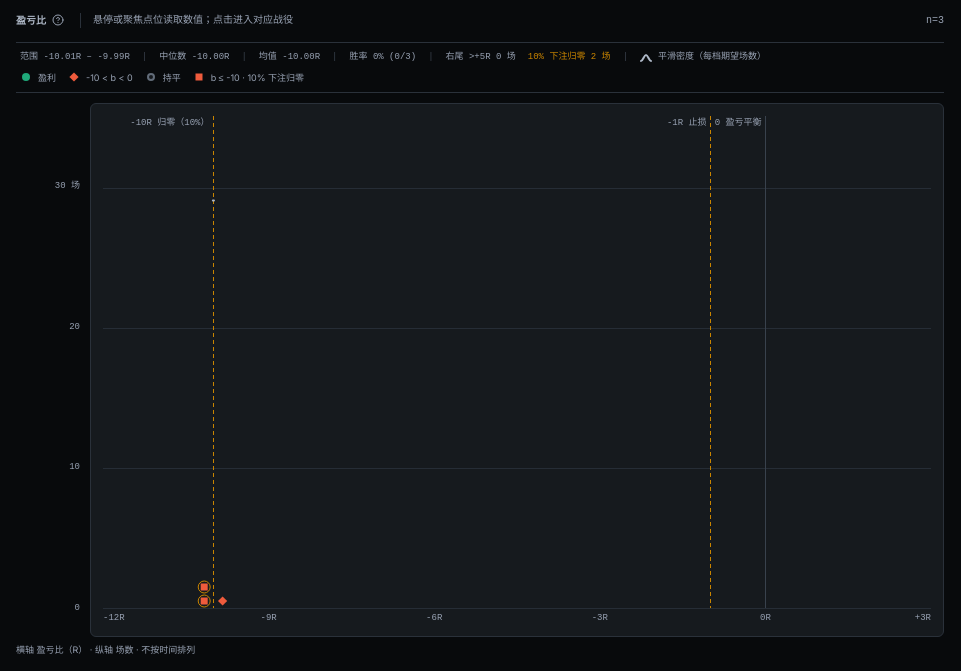
Test: 盈亏比分布的固定 10% 下注归零界限 › 提示和读屏保留真实 b，并明确假设，不把模拟归零误写成实际强平
Later steps or results of the test are not shown.
Focus the button named "第 1 场，战役 0，盈亏比 -10.01R，按 10% 下注，本金归零，操作时间 2023-11-15 06:13:2" at [204, 601], box 195,594 -> 213,608
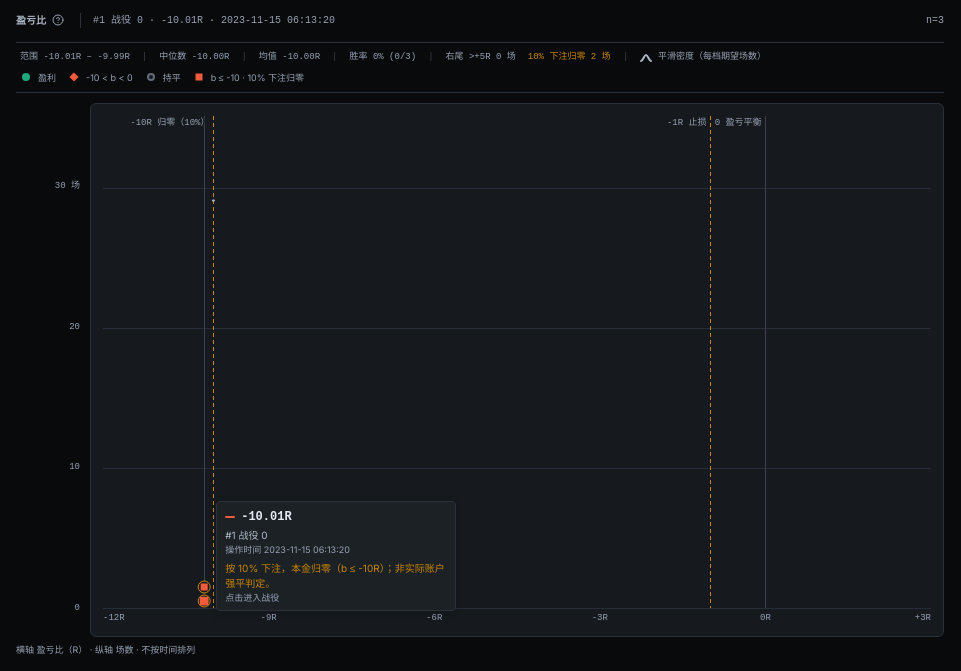
Expected: the element with test id "chart-tooltip" shows "-10.01R", 241,510 -> 292,524
Expected: the element with test id "chart-tooltip" shows "按 10% 下注，本金归零", 225,562 -> 445,588
Expected: the element with test id "chart-tooltip" shows "非实际账户强平判定", 225,562 -> 445,588
Click the button named "第 1 场，战役 0，盈亏比 -10.01R，按 10% 下注，本金归零，操作时间 2023-11-15 06:13:2" at [204, 601], box 195,594 -> 213,608
Focus the button named "第 3 场，战役 2，盈亏比 -9.99R，操作时间 2023-11-15 06:13:20，进入战役" at [223, 601], box 213,594 -> 232,608
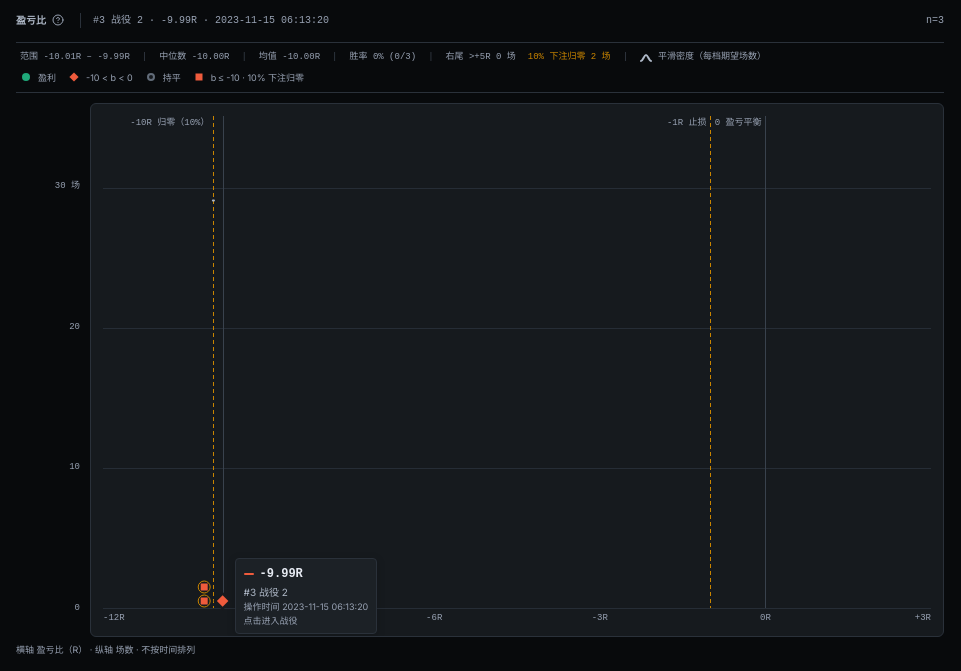
Expected: the element with test id "chart-tooltip" shows "-9.99R", 260,567 -> 303,581
Expected: the element with test id "chart-tooltip" no longer shows "本金归零", 235,558 -> 377,634
